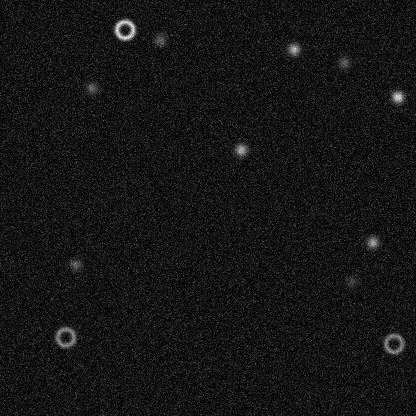Ring: (112, 17, 136, 41), (381, 331, 405, 355), (53, 325, 77, 349)
Spot: (67, 256, 83, 272), (364, 234, 380, 250), (285, 41, 301, 57), (83, 80, 99, 96), (336, 54, 352, 70), (152, 31, 168, 47), (389, 88, 405, 104), (343, 273, 359, 289), (232, 141, 248, 157)
